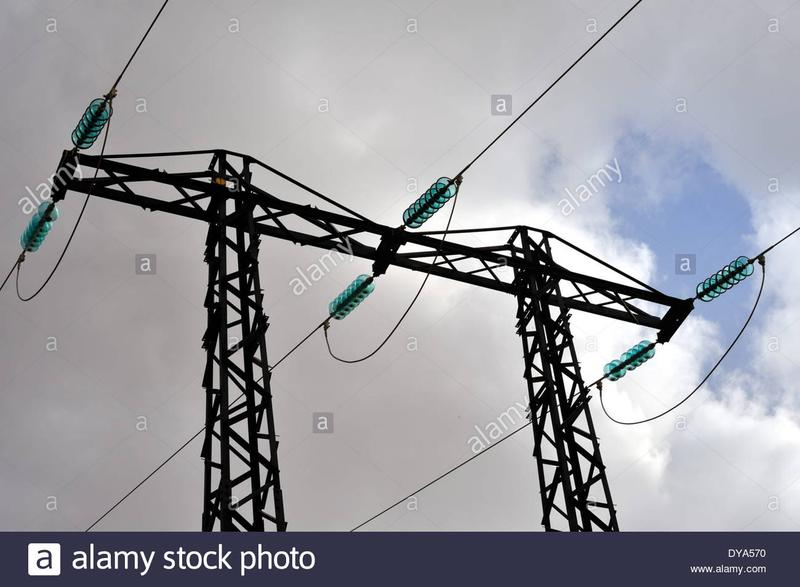isolator: (403, 177, 459, 231), (696, 255, 755, 304), (327, 273, 376, 321), (69, 98, 114, 149), (604, 340, 655, 383), (19, 201, 58, 253)
